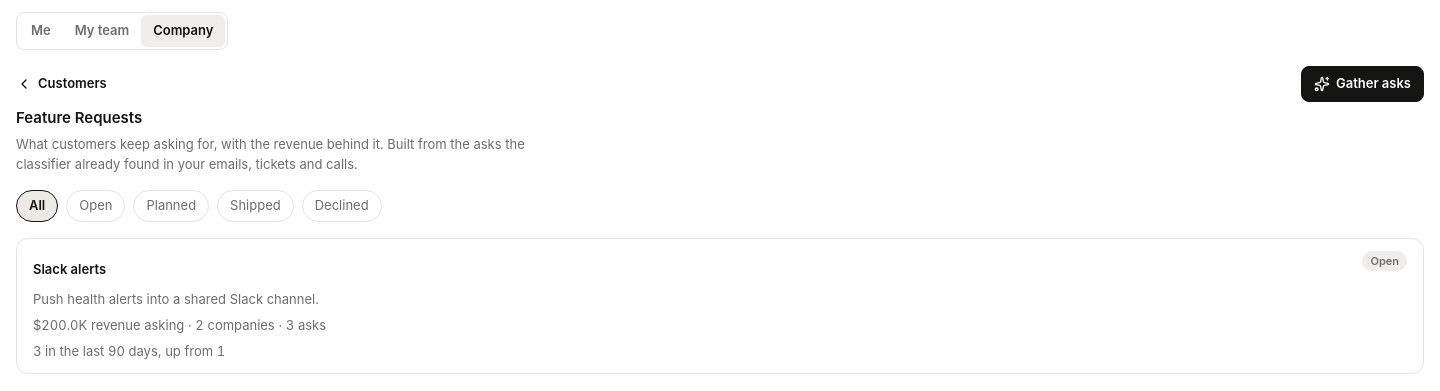
Test: FeatureRequestsPage › filters by status
Expected: the button "Slack alerts" is shown, [33, 251, 319, 287]
Step 1. Click the button "Planned" → point(171, 206), box [133, 190, 209, 222]
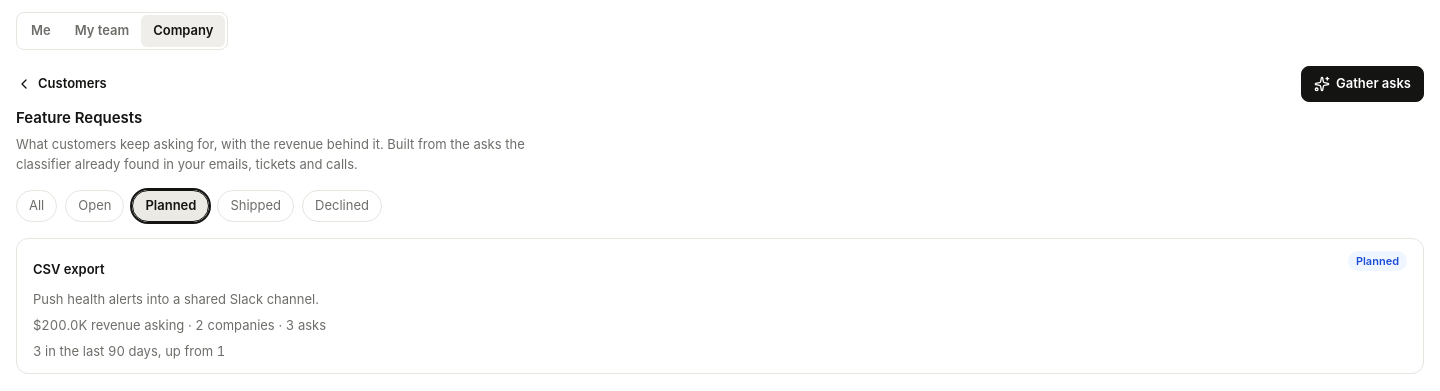
Expected: the button "CSV export" is shown, [33, 251, 319, 287]
